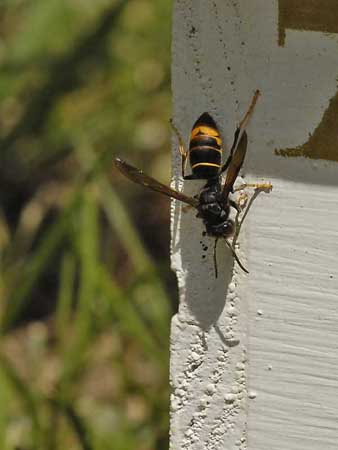hornet: (136, 105, 291, 264)
